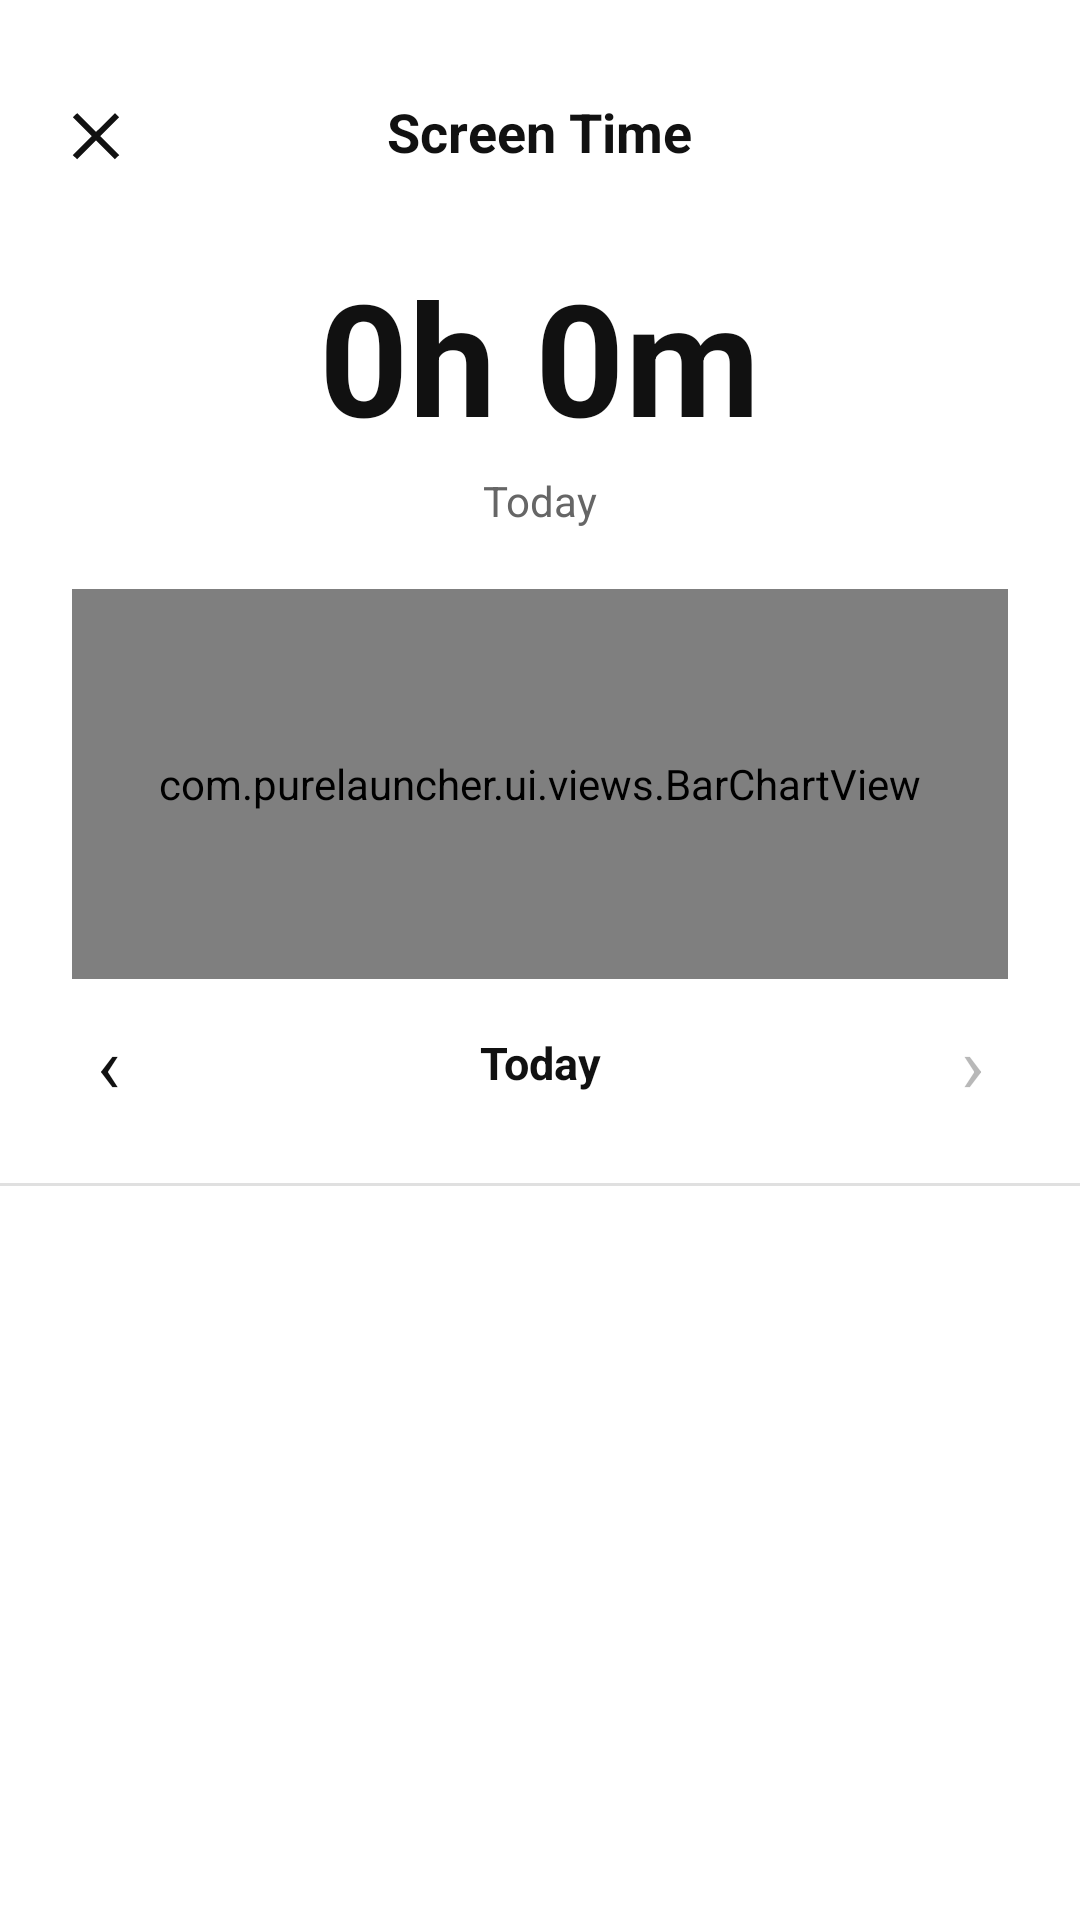

Icon bounding boxes for this 1080*1920 phone screenshot, format bbox=[x1, y1, x2, y2]:
close: bbox=[73, 113, 119, 159]
